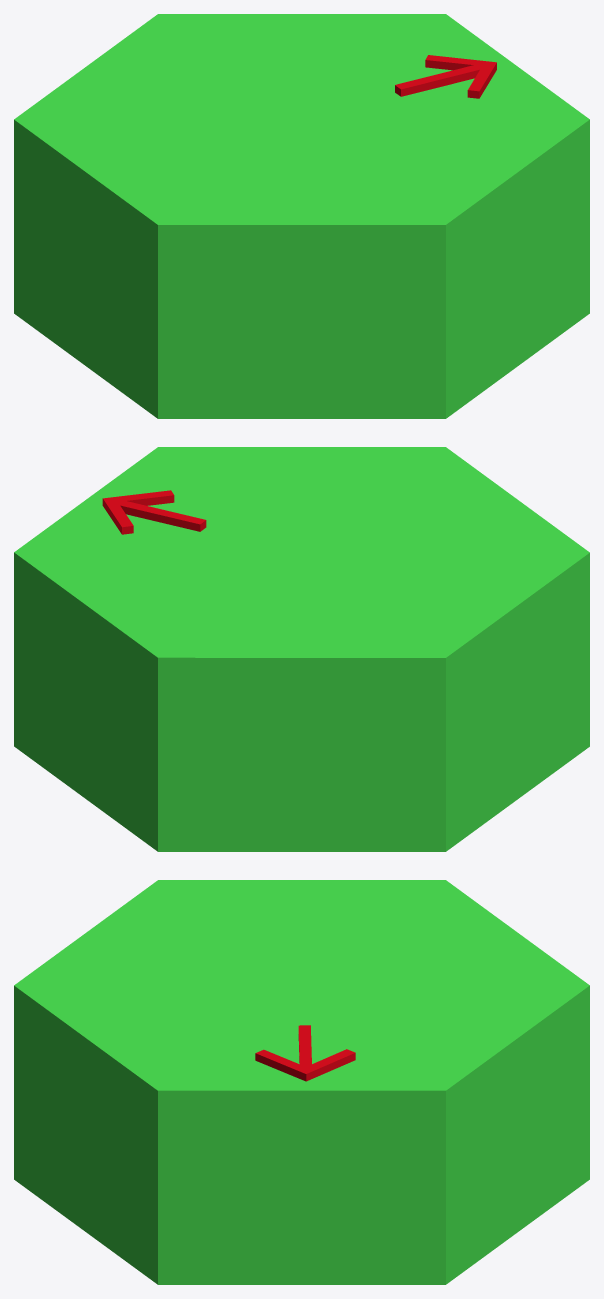
Rendered from NormalTileWith1Arrow.fbx.
The picture shows the model from 3 angles, top to bottom: view 1: azimuth 30°, elevation 25°; view 2: azimuth 150°, elevation 25°; view 3: azimuth 270°, elevation 25°; orthographic projection.
Visible parts, largest first — view 1: NormalTileWith1Arrow; view 2: NormalTileWith1Arrow; view 3: NormalTileWith1Arrow.
Part boxes in pixels (box(x1,y1,x2,y2)): NormalTileWith1Arrow: box(14, 14, 589, 418); NormalTileWith1Arrow: box(14, 447, 589, 851); NormalTileWith1Arrow: box(14, 880, 589, 1284).
Size of the model in its own units: 173 by 77.26 by 200.
